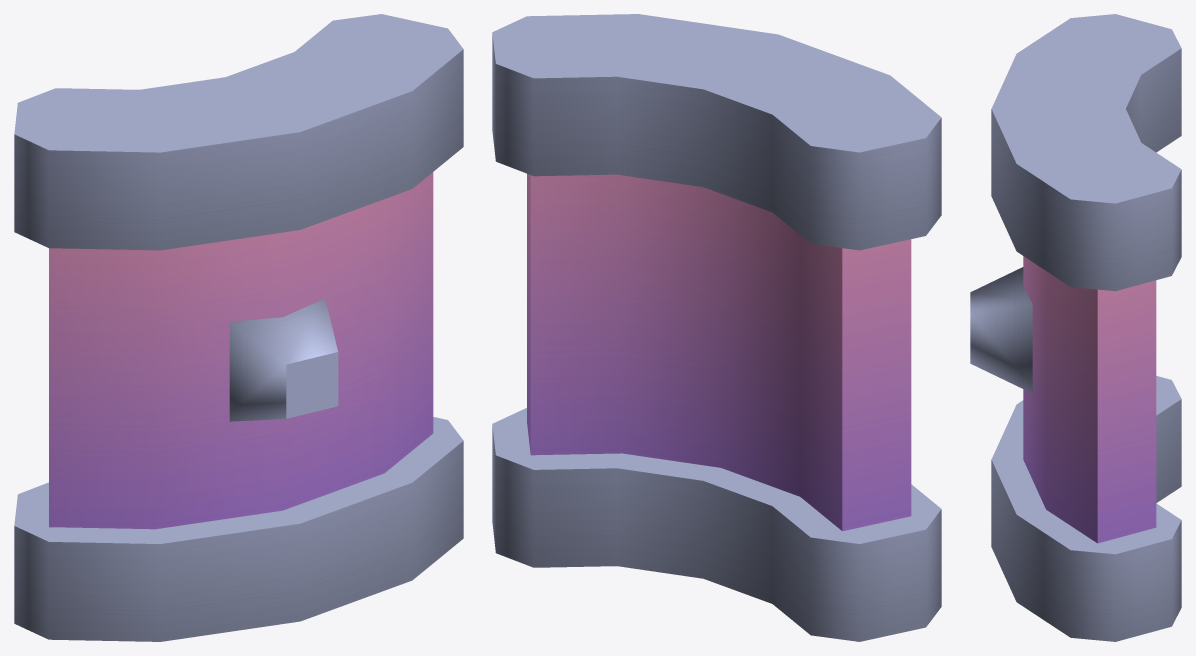
The model's file is shield-rectangle.fbx.
3 renders of one model, left to right at view 1: azimuth 30°, elevation 25°; view 2: azimuth 150°, elevation 25°; view 3: azimuth 270°, elevation 25°, orthographic. The views are drawn at different scales.
Parts seen in each view (by area): view 1: shield-rectangle; view 2: shield-rectangle; view 3: shield-rectangle.
Part boxes in pixels (x1,y1,x2,y2): shield-rectangle: (14,14,463,641); shield-rectangle: (492,14,941,641); shield-rectangle: (970,14,1181,641).
Size of the model in its own units: 27.59 by 29.75 by 13.
